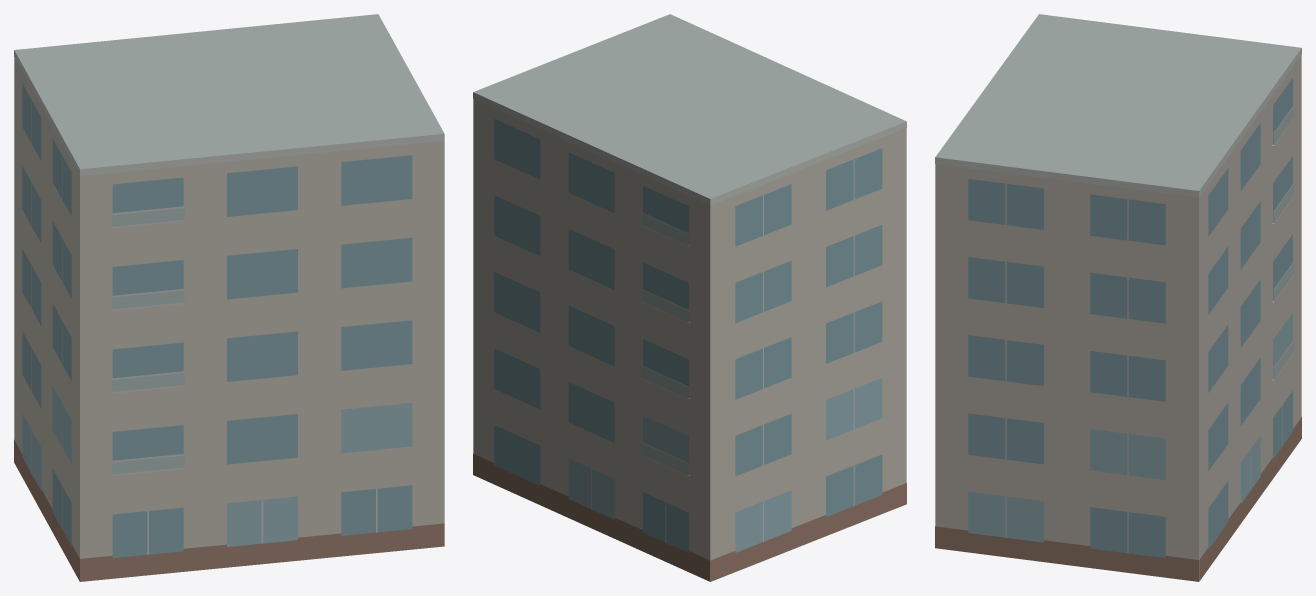
Rendered from survey-upis-32941055.glb.
The picture shows the model from 3 angles, left to right: view 1: azimuth 30°, elevation 25°; view 2: azimuth 150°, elevation 25°; view 3: azimuth 270°, elevation 25°; orthographic projection. The views are drawn at different scales.
Visible parts, largest first — view 1: survey-upis-32941055.tmp; view 2: survey-upis-32941055.tmp; view 3: survey-upis-32941055.tmp.
Part boxes in pixels (bbox=[...]): survey-upis-32941055.tmp: bbox=[14, 14, 444, 581]; survey-upis-32941055.tmp: bbox=[473, 14, 906, 581]; survey-upis-32941055.tmp: bbox=[935, 14, 1301, 581].
Bounding box in the file's own units: 13.99 × 14.4 × 12.25.
